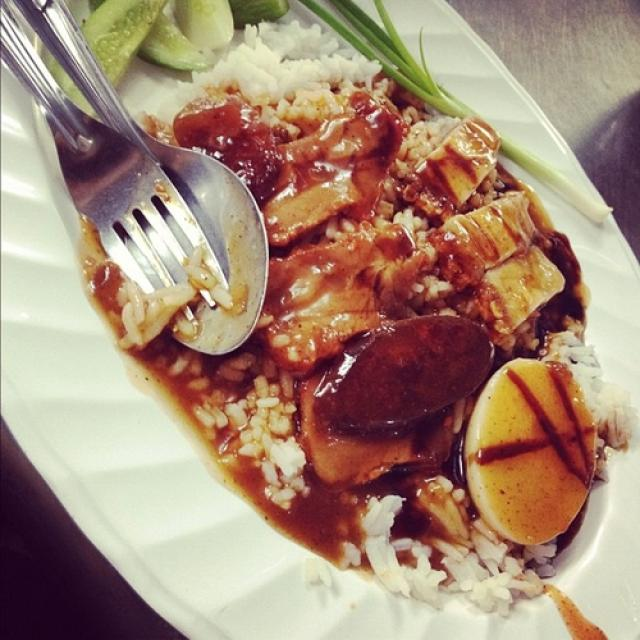猪肉菜式: (54, 28, 621, 608)
